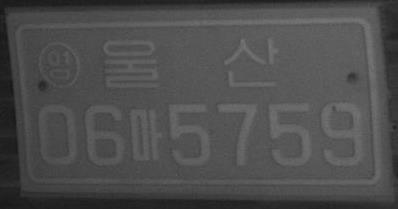0: (37, 102, 78, 165)
5: (167, 101, 212, 168), (267, 101, 311, 169)
6: (83, 103, 125, 167)
7: (216, 101, 260, 167)
9: (320, 100, 364, 168)
마: (128, 107, 162, 162)
영: (38, 41, 80, 89)
울산_D: (102, 36, 278, 90)
